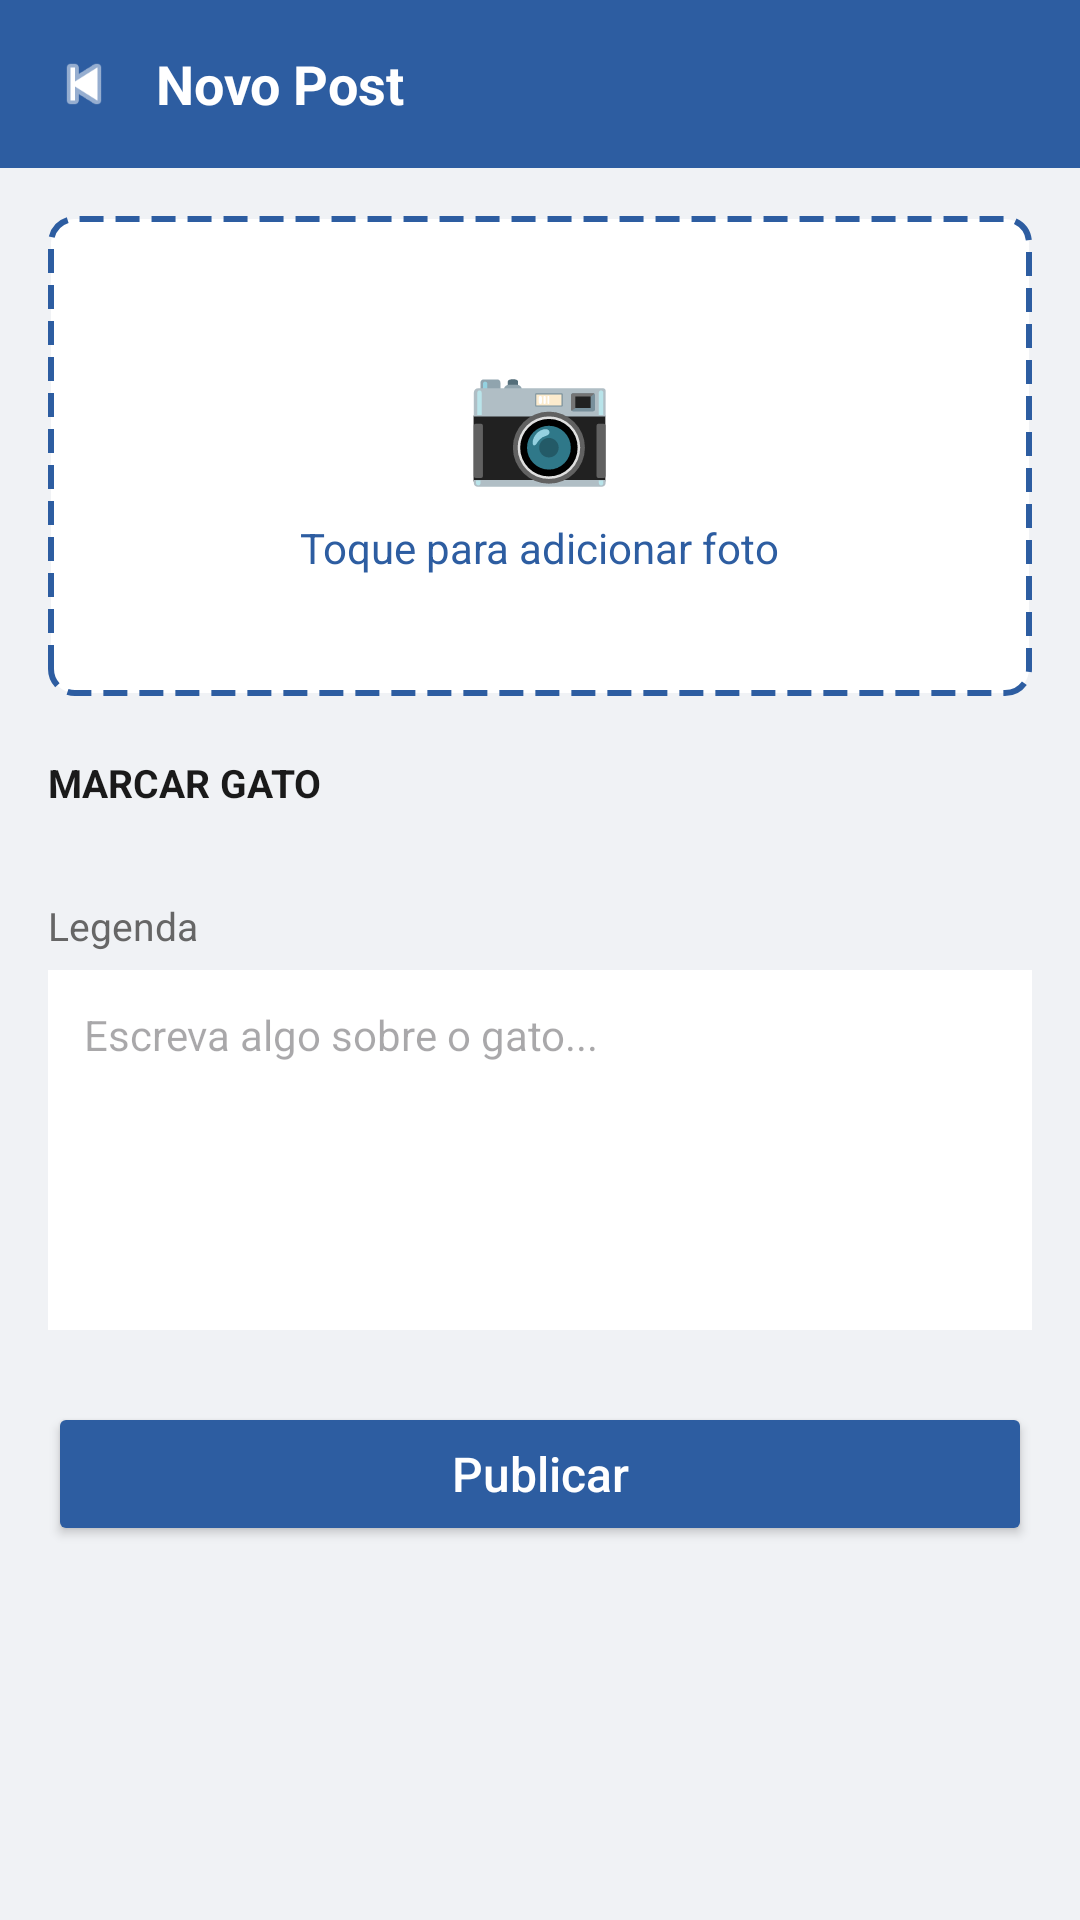

Locate icon controls on the screen. Image size 1080 x 1920, boxes as region(x1, y1, x2, y2).
previous: region(67, 64, 101, 104)
